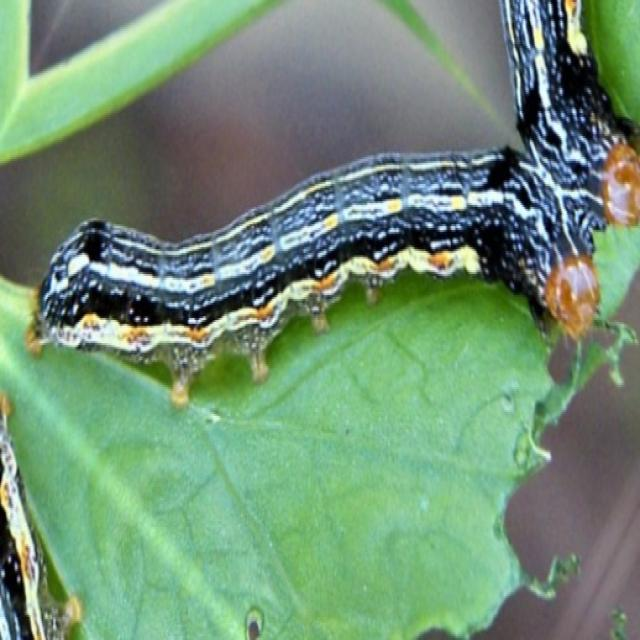Armyworm: (26, 106, 584, 404), (506, 1, 640, 233)
